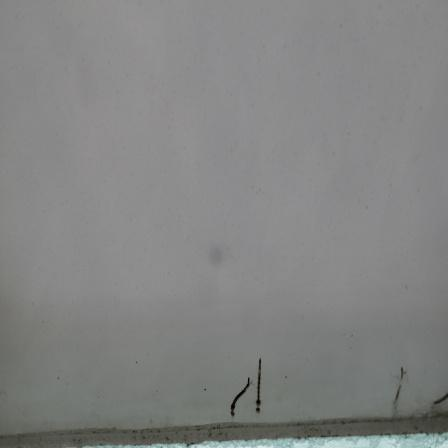Jentik-Nyamuk: (228, 375, 252, 418), (253, 355, 268, 416)
